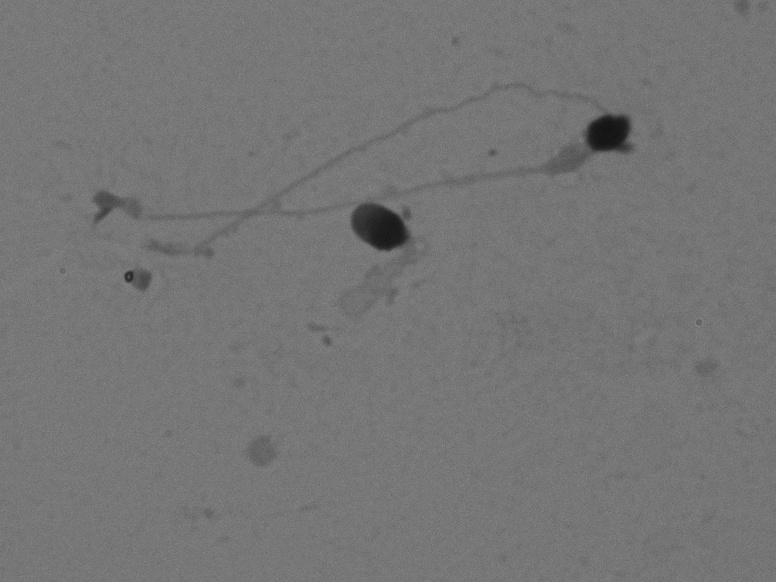Abnormal: (65, 98, 711, 268), (324, 189, 442, 336)
